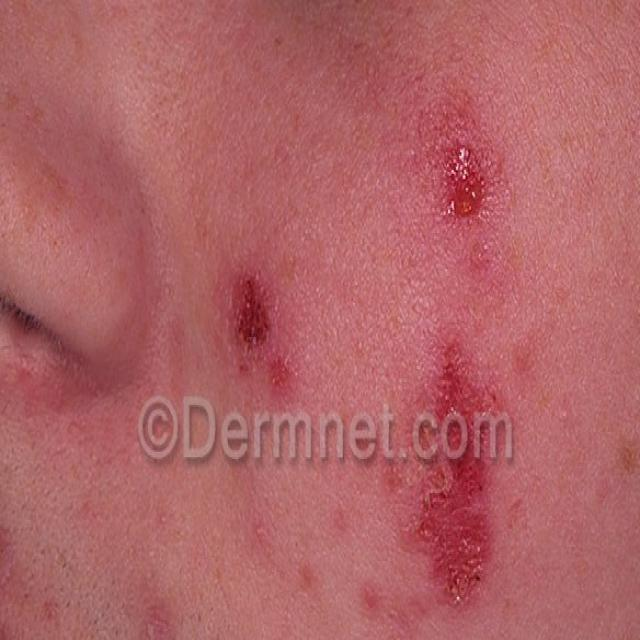Acne: (370, 334, 549, 618), (215, 220, 305, 410), (415, 112, 509, 256), (141, 579, 180, 640), (0, 548, 28, 606)
